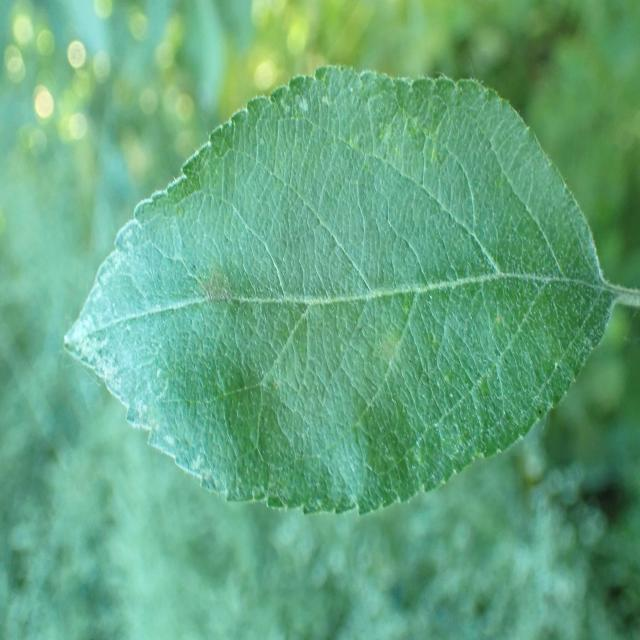scab: (118, 86, 540, 474)
